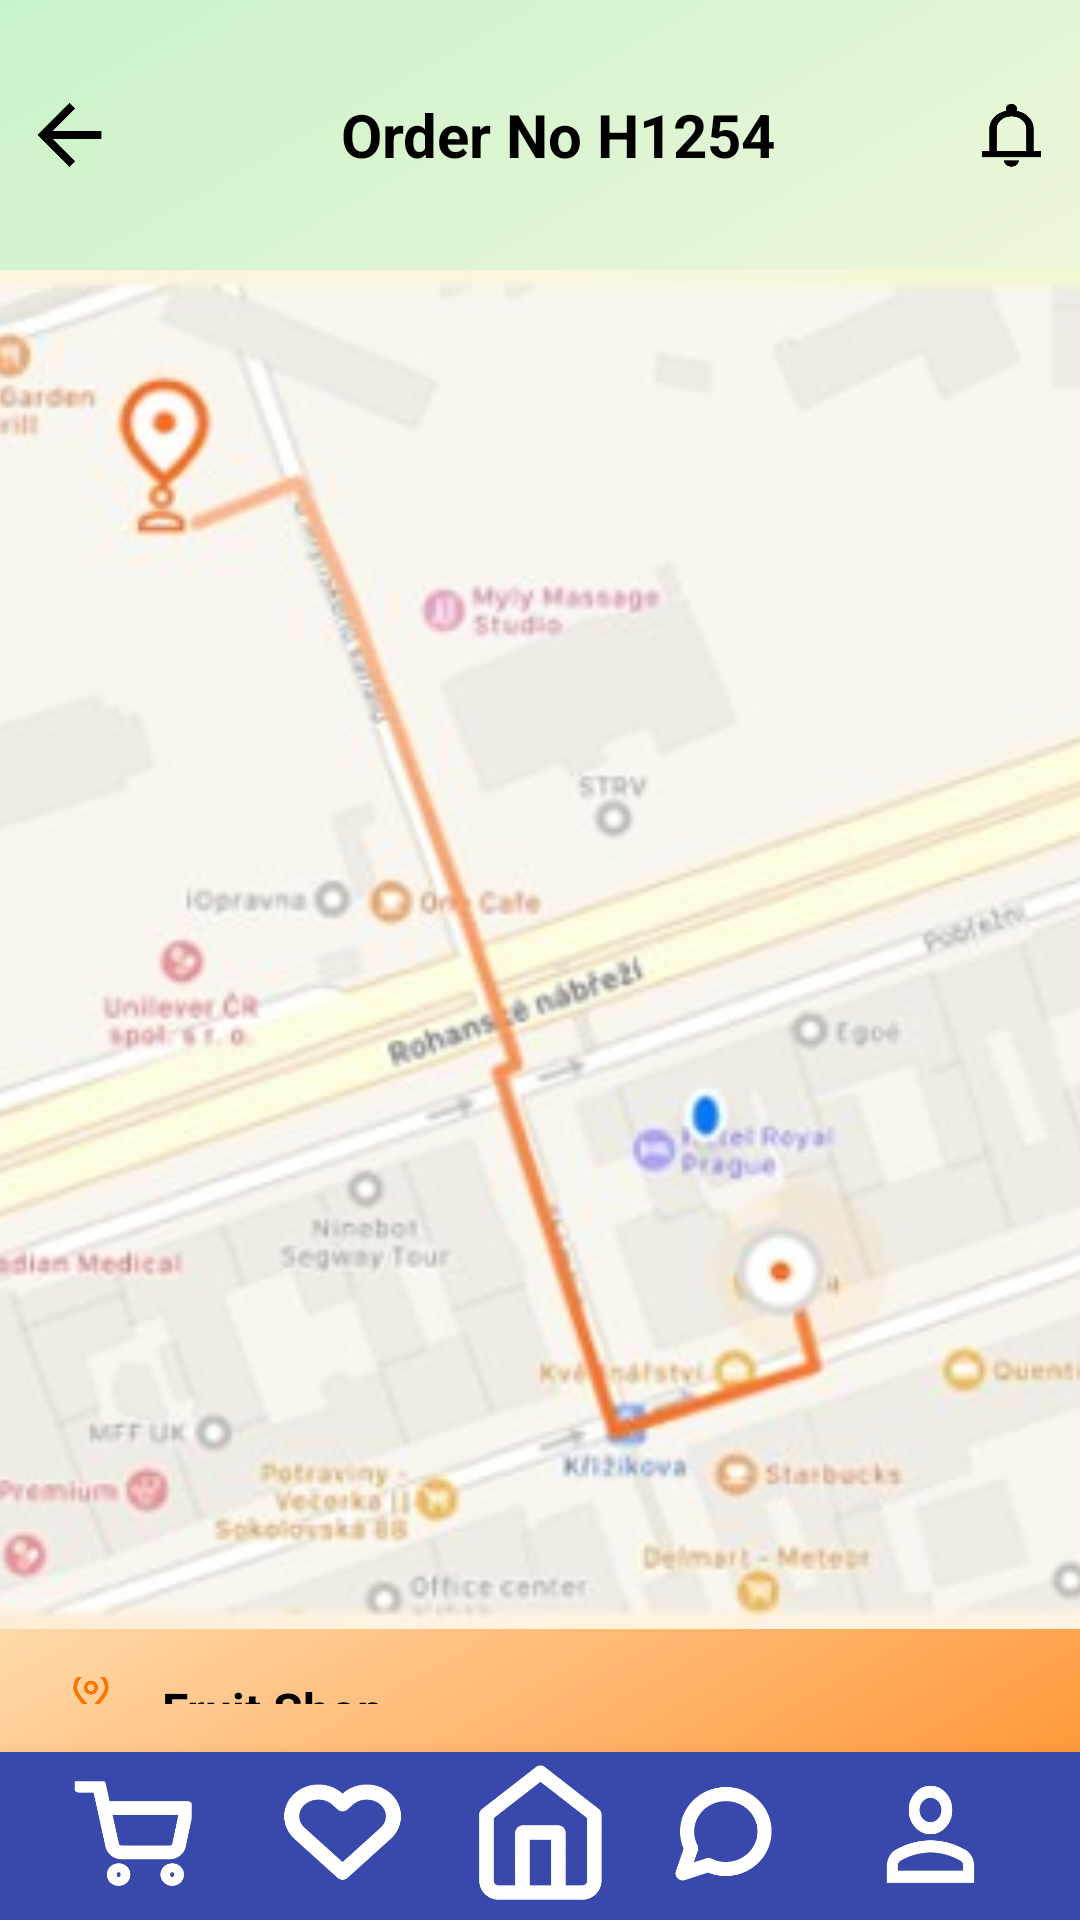

Screen size 1080px×1920px. Icon name, then its box in pixels as [x1, y1, x2, y2]:
back arrow: [38, 103, 102, 167]
bell: [982, 104, 1041, 167]
menu cart: [74, 1781, 192, 1886]
menu home: [479, 1765, 602, 1900]
menu profile: [886, 1786, 974, 1883]
menu wishlist: [284, 1784, 401, 1880]
